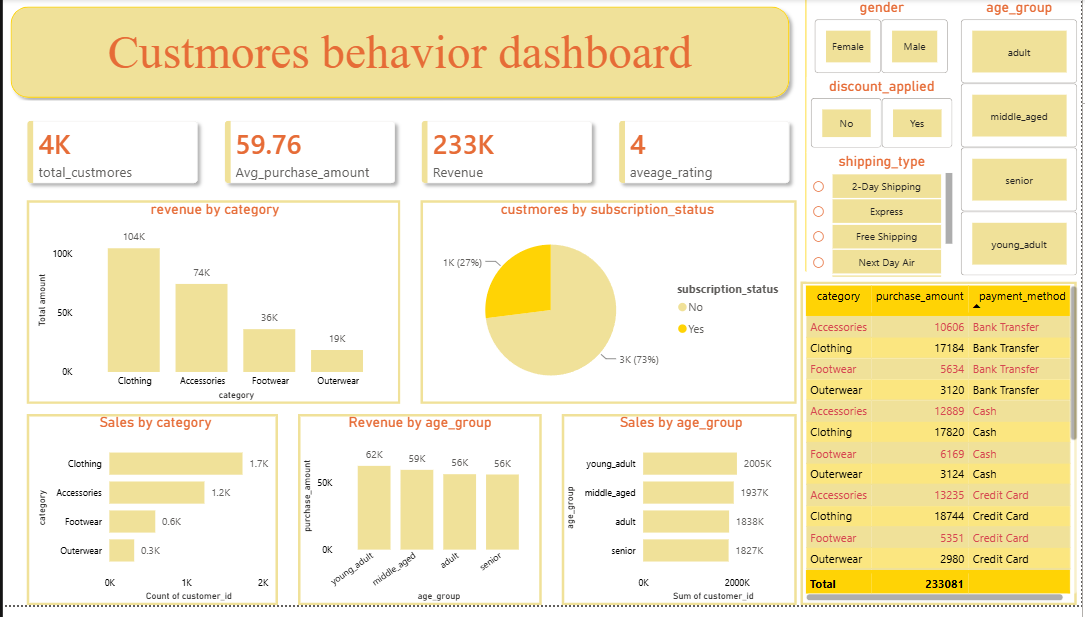

Layout of this report page (visuals, bound fields, positions):
{"tool":"powerbi","page":{"name":"custmores behavior","canvas":[1280,720],"ordinal":0},"visuals":[{"type":"shape","title":"custmores behavior","box":[0,0,942.1,126.1],"z":0},{"type":"cardVisual","fields":{"Data":["_measure.total_custmores","_measure.Avg_purchase_amount","_measure.total_purchase_amount","_measure.aveage_rating"]},"box":[0,115.7,962.8,132],"z":1000},{"type":"shape","box":[28.2,238.9,443.6,241.8],"z":2000},{"type":"clusteredColumnChart","title":"revenue by category","fields":{"Category":["custmores_behavior mytable.category"],"Y":["_measure.total_purchase_amount"]},"box":[35.6,238.9,431.7,241.8],"z":3000},{"type":"shape","box":[495.5,238.9,446.5,241.8],"z":4000},{"type":"pieChart","title":"custmores by subscription_status","fields":{"Category":["custmores_behavior mytable.subscription_status"],"Y":["_measure.total_custmores"]},"box":[495.5,238.9,443.6,241.8],"z":5000},{"type":"shape","box":[28.2,492.5,298.2,227],"z":6000},{"type":"barChart","title":"Sales by category","fields":{"Y":["CountNonNull(custmores_behavior mytable.customer_id)"],"Category":["custmores_behavior mytable.category"]},"box":[35.6,492.5,290.8,227],"z":7000},{"type":"shape","box":[350.1,492.5,289.3,227],"z":8000},{"type":"shape","box":[663.1,492.5,278.9,227],"z":9000},{"type":"columnChart","title":" Revenue by age_group","fields":{"Category":["custmores_behavior mytable.age_group"],"Y":["Sum(custmores_behavior mytable.purchase_amount)"]},"box":[350.1,492.5,289.3,227],"z":10000},{"type":"clusteredBarChart","title":"Sales by age_group","fields":{"Category":["custmores_behavior mytable.age_group"],"Y":["Sum(custmores_behavior mytable.customer_id)"]},"box":[663.1,492.5,283.4,227],"z":11000},{"type":"shape","box":[946.5,335.3,327.9,384.2],"z":12000},{"type":"shape","box":[952.4,0,327.9,323.4],"z":13000},{"type":"tableEx","fields":{"Values":["custmores_behavior mytable.category","Sum(custmores_behavior mytable.purchase_amount)","custmores_behavior mytable.payment_method"]},"box":[946.5,335.3,333.8,384.2],"z":14000},{"type":"advancedSlicerVisual","fields":{"Values":["custmores_behavior mytable.gender"]},"box":[958.4,0,169.1,93.5],"z":15000},{"type":"advancedSlicerVisual","fields":{"Values":["custmores_behavior mytable.discount_applied"]},"box":[953.9,93.5,178,89],"z":16000},{"type":"advancedSlicerVisual","fields":{"Values":["custmores_behavior mytable.age_group"]},"box":[1131.9,0,148.4,335.3],"z":17000},{"type":"listSlicer","fields":{"Values":["custmores_behavior mytable.shipping_type"]},"box":[953.9,182.5,178,152.8],"z":18000}]}

Visuals, with their boxes in screenshot pixels (x1, y1, x2, y2), scaled from the page's 1280x720 canvas onto the 1085x617 screenshot:
"custmores behavior" shape: locate(0, 0, 799, 108)
cardVisual - _measure.total_custmores x _measure.Avg_purchase_amount: locate(0, 99, 816, 212)
shape: locate(24, 205, 400, 412)
"revenue by category" clusteredColumnChart: locate(30, 205, 396, 412)
shape: locate(420, 205, 798, 412)
"custmores by subscription_status" pieChart: locate(420, 205, 796, 412)
shape: locate(24, 422, 277, 616)
"Sales by category" barChart: locate(30, 422, 277, 616)
shape: locate(297, 422, 542, 616)
shape: locate(562, 422, 798, 616)
" Revenue by age_group" columnChart: locate(297, 422, 542, 616)
"Sales by age_group" clusteredBarChart: locate(562, 422, 802, 616)
shape: locate(802, 287, 1080, 616)
shape: locate(807, 0, 1084, 277)
tableEx - custmores_behavior mytable.category x Sum(custmores_behavior mytable.purchase_amount): locate(802, 287, 1084, 616)
advancedSlicerVisual - custmores_behavior mytable.gender: locate(812, 0, 956, 80)
advancedSlicerVisual - custmores_behavior mytable.discount_applied: locate(809, 80, 959, 156)
advancedSlicerVisual - custmores_behavior mytable.age_group: locate(959, 0, 1084, 287)
listSlicer - custmores_behavior mytable.shipping_type: locate(809, 156, 959, 287)
